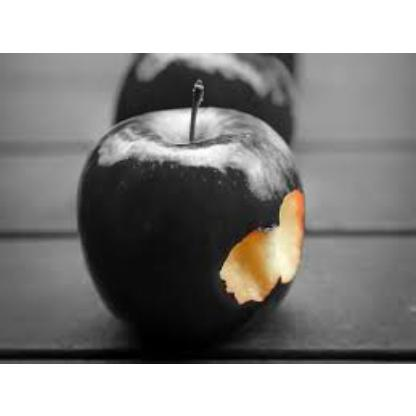damaged_apple: (77, 103, 305, 329)
